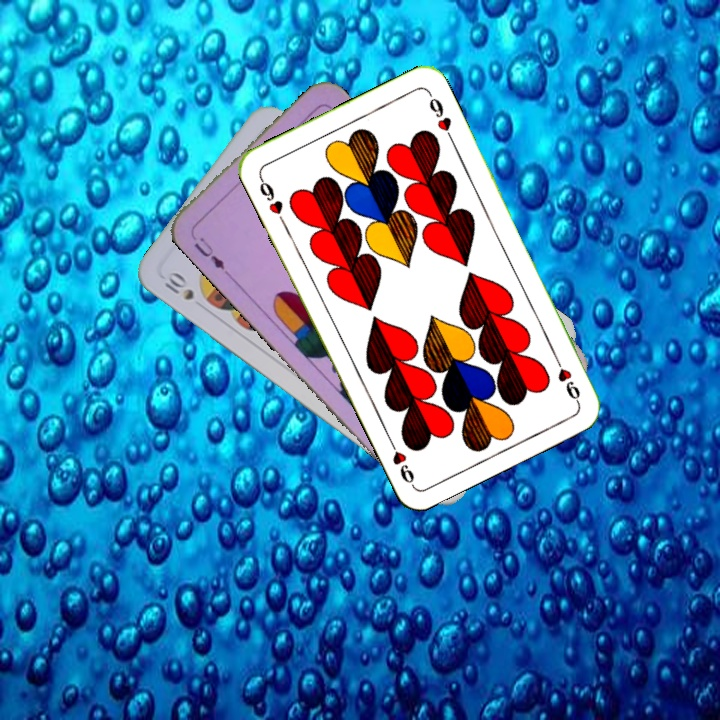EU: (189, 233, 228, 272)
H9: (549, 350, 583, 405), (255, 172, 288, 227)
S10: (160, 270, 197, 303)
